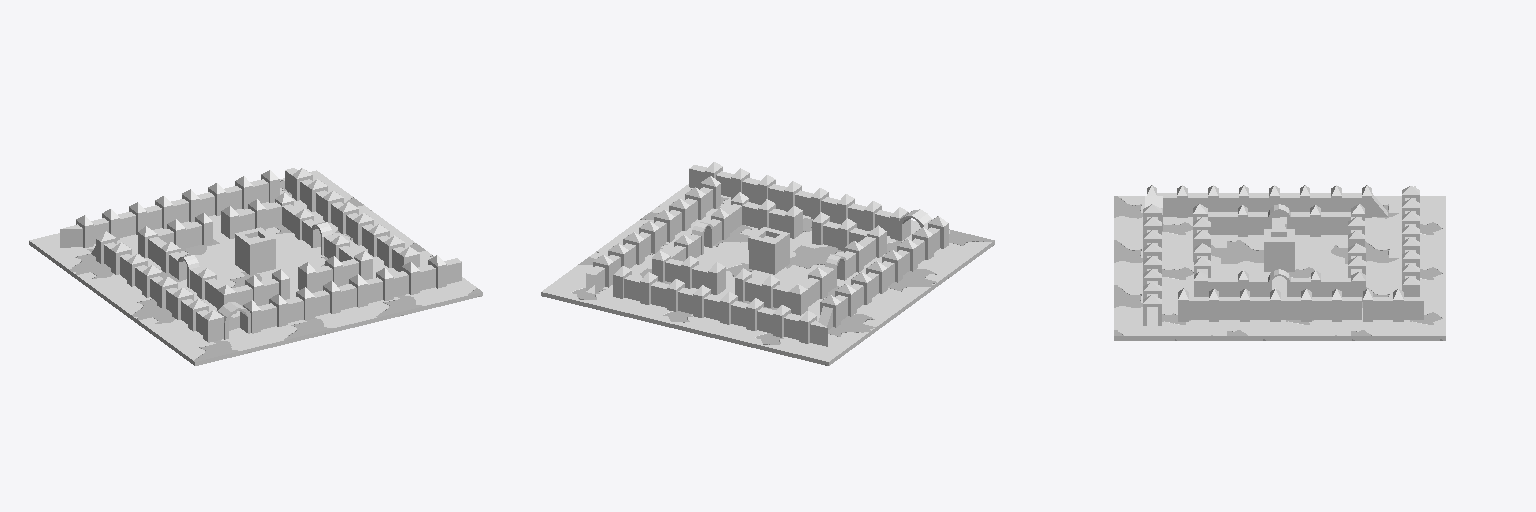
The picture shows the model from 3 angles: view 1: azimuth 30°, elevation 25°; view 2: azimuth 150°, elevation 25°; view 3: azimuth 270°, elevation 25°; orthographic projection.
Parts seen in each view (by area): view 1: cube31, Castle, Wallpiece18, Wallpiece29, Wallpiece20, Wallpiece19, Wallpiece25, Wallpiece17, Wallpiece16, Wallpiece15, Wallpiece23, Wallpiece26 (+8 smaller); view 2: cube31, Castle, Wallpiece17, Wallpiece25, Wallpiece16, Wallpiece15, Wallpiece19, Wallpiece18, Wallpiece20, Wallpiece30, Wallpiece24, Wallpiece29 (+8 smaller); view 3: cube31, Castle, Wallpiece28, Wallpiece26, Wallpiece27, Wallpiece30, Wallpiece21, Wallpiece22, Wallpiece23, Wallpiece24, Wallpiece29, Wallpiece17 (+1 smaller).
Boxes of the visible parts, x1=… form: cube31: x1=29, y1=170, x2=482, y2=365; Castle: x1=138, y1=192, x2=372, y2=313; Wallpiece18: x1=296, y1=281, x2=356, y2=320; Wallpiece29: x1=402, y1=255, x2=461, y2=294; Wallpiece20: x1=243, y1=294, x2=303, y2=333; Wallpiece19: x1=349, y1=268, x2=408, y2=307; Wallpiece25: x1=60, y1=209, x2=119, y2=247; Wallpiece17: x1=224, y1=170, x2=279, y2=209; Wallpiece16: x1=118, y1=196, x2=172, y2=237; Wallpiece15: x1=171, y1=183, x2=225, y2=222; Wallpiece23: x1=181, y1=299, x2=223, y2=342; Wallpiece26: x1=346, y1=213, x2=389, y2=256; cube31: x1=541, y1=184, x2=994, y2=365; Castle: x1=652, y1=192, x2=886, y2=315; Wallpiece17: x1=613, y1=266, x2=668, y2=307; Wallpiece25: x1=773, y1=305, x2=827, y2=346; Wallpiece16: x1=720, y1=292, x2=775, y2=333; Wallpiece15: x1=667, y1=279, x2=722, y2=320; Wallpiece19: x1=742, y1=175, x2=801, y2=211; Wallpiece18: x1=795, y1=188, x2=854, y2=224; Wallpiece20: x1=848, y1=201, x2=908, y2=239; Wallpiece30: x1=586, y1=243, x2=628, y2=293; Wallpiece24: x1=818, y1=284, x2=856, y2=329; Wallpiece29: x1=689, y1=162, x2=749, y2=199; cube31: x1=1114, y1=196, x2=1445, y2=340; Castle: x1=1193, y1=204, x2=1365, y2=301; Wallpiece28: x1=1178, y1=288, x2=1239, y2=321; Wallpiece26: x1=1240, y1=288, x2=1300, y2=321; Wallpiece27: x1=1301, y1=289, x2=1361, y2=321; Wallpiece30: x1=1363, y1=289, x2=1423, y2=321; Wallpiece21: x1=1208, y1=185, x2=1268, y2=211; Wallpiece22: x1=1269, y1=185, x2=1330, y2=217; Wallpiece23: x1=1147, y1=185, x2=1207, y2=217; Wallpiece24: x1=1331, y1=185, x2=1387, y2=217; Wallpiece29: x1=1143, y1=282, x2=1161, y2=333; Wallpiece17: x1=1402, y1=263, x2=1419, y2=296.
Bounding box in the file's own units: 2063 × 280 × 2064.
2 materials, 2 textured.